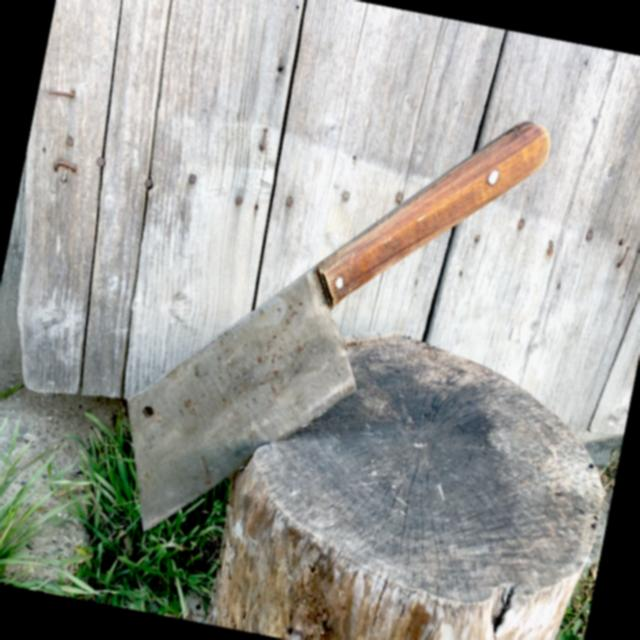cleaver: (107, 56, 554, 593)
